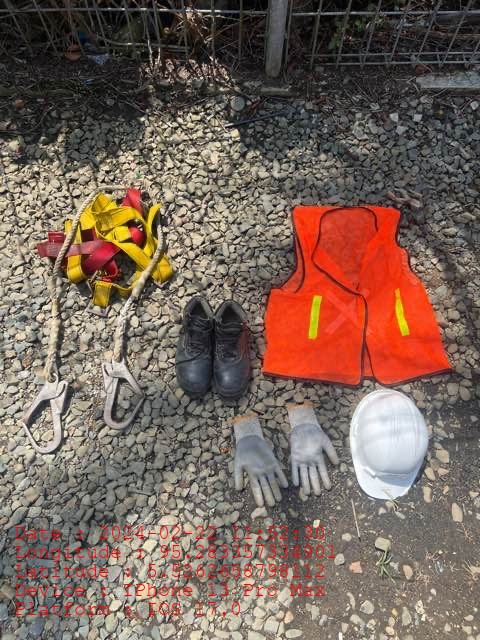HELM: (351, 388, 426, 498)
ROMPI: (268, 206, 440, 381)
SARUNG TANGAN: (230, 415, 290, 508), (285, 400, 338, 498)
SEPATU: (178, 295, 252, 398)
TAMBANG_SLING: (23, 194, 154, 455)
